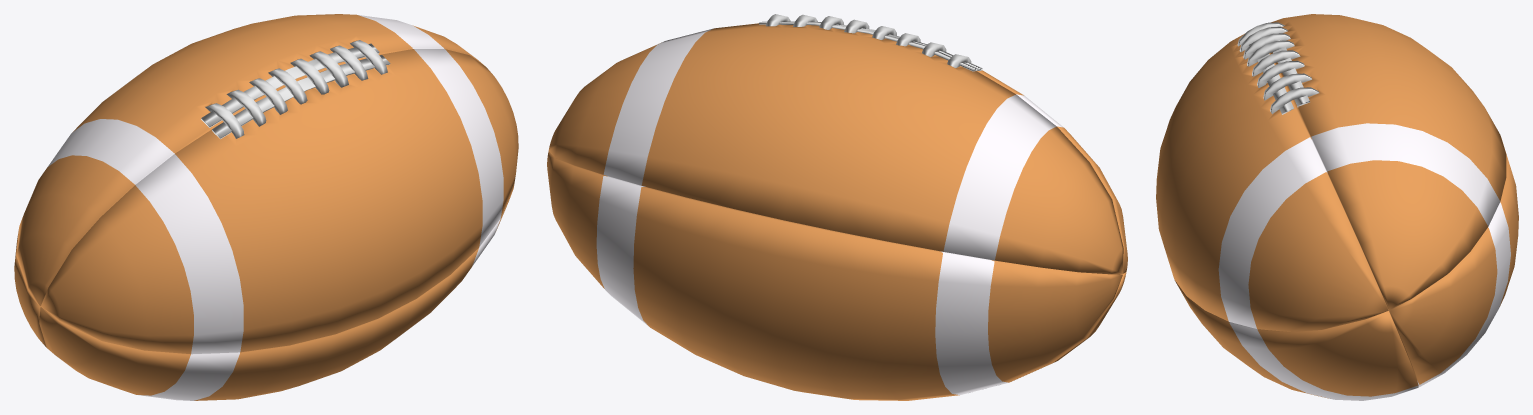
The model's file is American_Football.glb.
3 views of the same model, side by side, from view 1: azimuth 30°, elevation 25°; view 2: azimuth 150°, elevation 25°; view 3: azimuth 270°, elevation 25° (orthographic). The views are drawn at different scales.
Parts seen in each view (by area): view 1: Sphere, Cube.008, Cube.009, Cube.001, Cube.005, Cube.004, Cube.003, Cube.002, Cube, Cube.006, Cube.007; view 2: Sphere, Cube.009; view 3: Sphere, Cube.007, Cube.004, Cube.006, Cube.005, Cube.003, Cube.002, Cube.009, Cube.001, Cube.008.
Part boxes in pixels (box(x1,y1,x2,y2)): Sphere: box(14, 14, 518, 400); Cube.008: box(212, 55, 390, 138); Cube.009: box(201, 43, 379, 127); Cube.001: box(226, 89, 266, 126); Cube.005: box(309, 51, 348, 87); Cube.004: box(290, 58, 329, 94); Cube.003: box(268, 68, 307, 104); Cube.002: box(249, 78, 287, 114); Cube: box(205, 103, 244, 138); Cube.006: box(330, 45, 368, 80); Cube.007: box(350, 40, 387, 74); Sphere: box(547, 23, 1127, 400); Cube.009: box(759, 21, 977, 71); Sphere: box(1156, 14, 1518, 400); Cube.007: box(1270, 87, 1319, 114); Cube.004: box(1252, 50, 1300, 76); Cube.006: box(1263, 73, 1311, 100); Cube.005: box(1257, 60, 1304, 87); Cube.003: box(1247, 40, 1294, 66); Cube.002: box(1243, 33, 1290, 59); Cube.009: box(1273, 32, 1309, 107); Cube.001: box(1239, 26, 1287, 52); Cube.008: box(1249, 43, 1293, 114).
Size of the model in its own units: 3.37 by 2.08 by 2.12.
